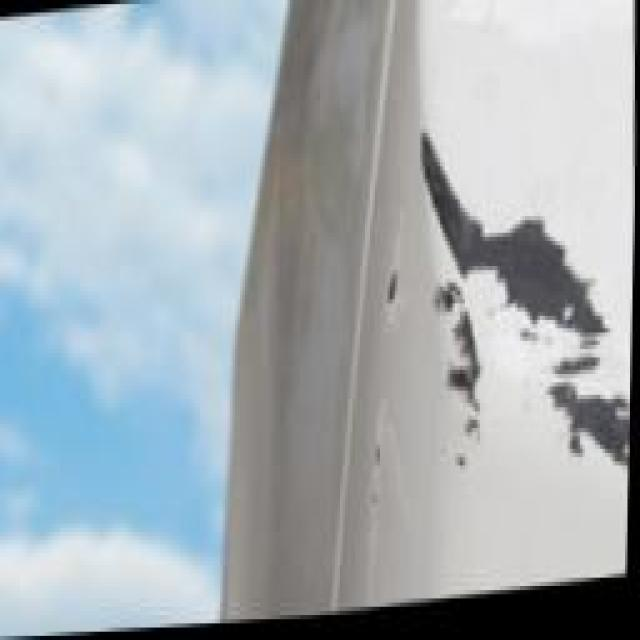Bumper: (345, 104, 639, 615)
